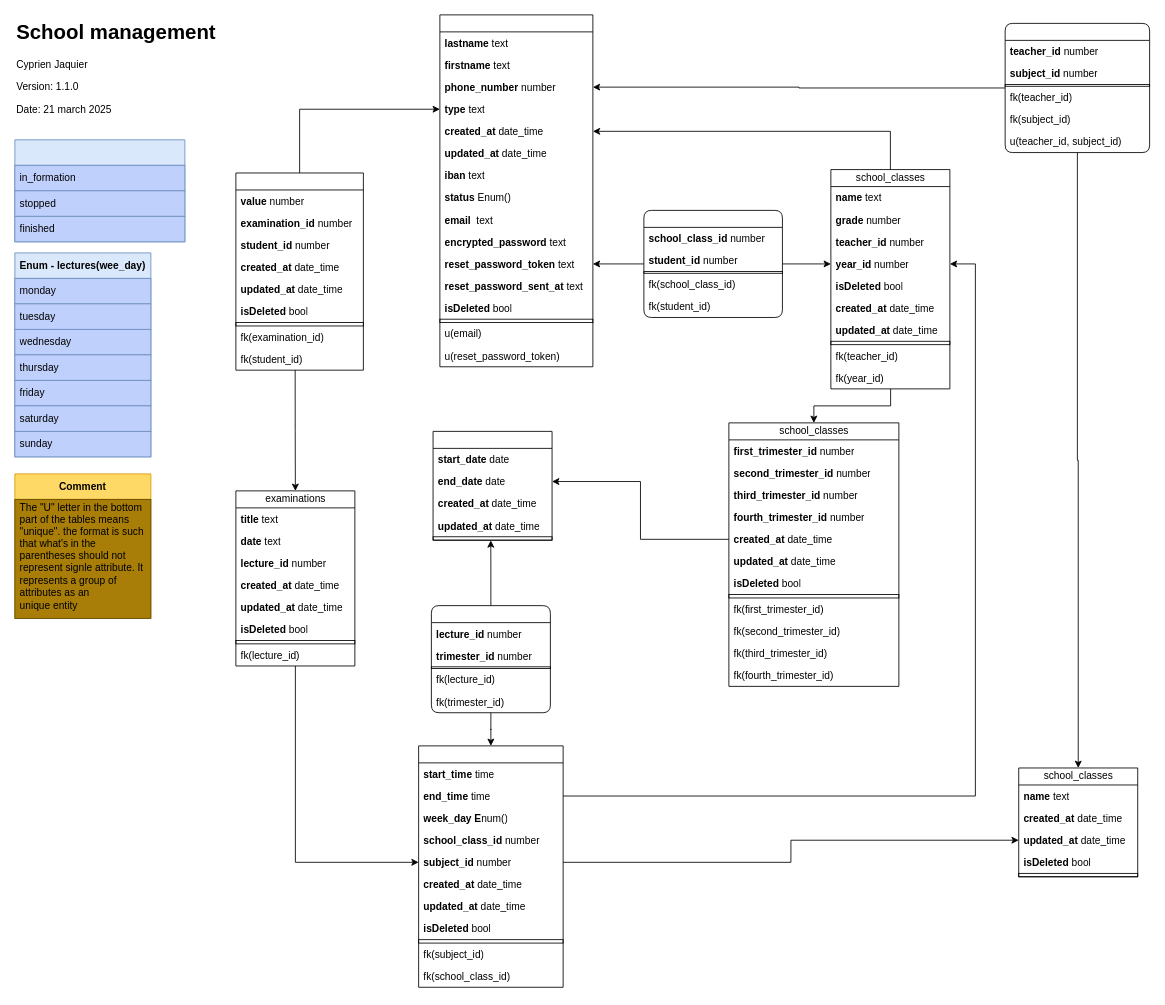
This 1165x1005 diagram has some shape labels left out. Here are the shapes that lost their labels. From the top down, the box of each, then its label:
(1004, 23, 1150, 153): subjects_teachers
(14, 139, 185, 242): Enum - students/people(status)
(439, 14, 593, 367): people
(235, 172, 363, 370): grades
(643, 210, 782, 317): school_classes_students
(432, 431, 552, 540): trimesters
(431, 605, 550, 713): lectures_trimesters
(418, 745, 563, 987): lectures
